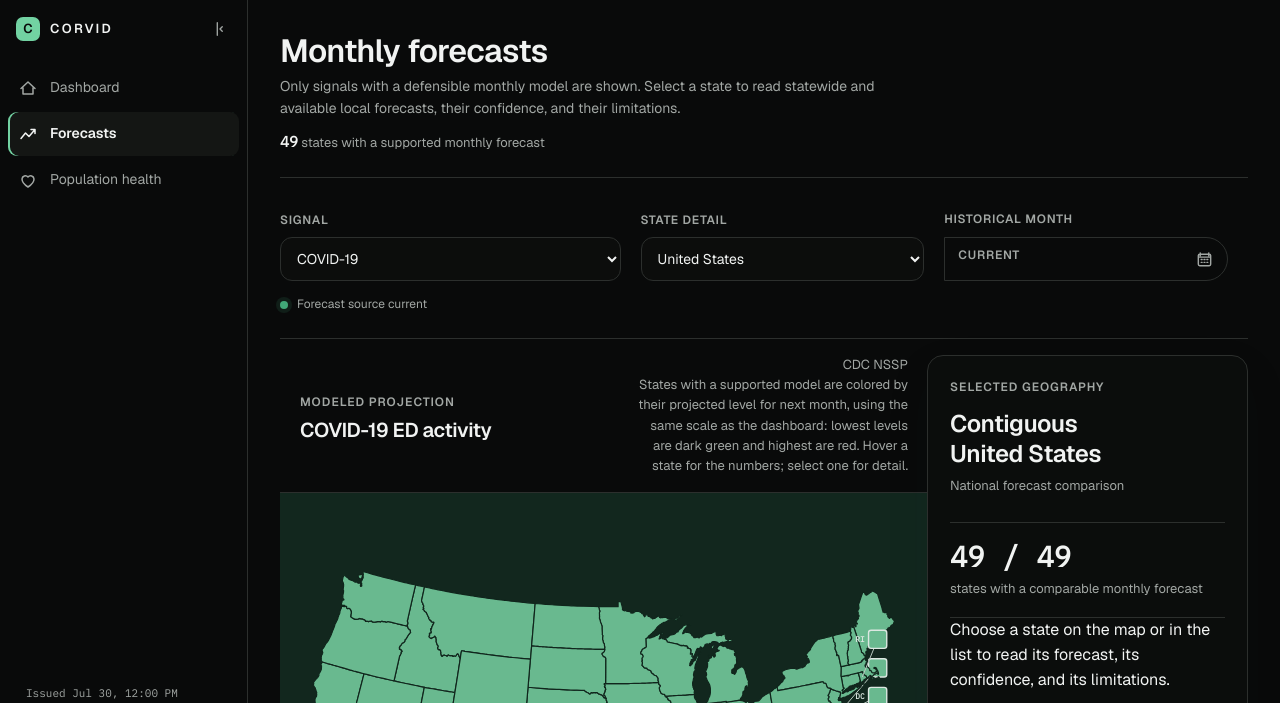
Test case: ForecastsPage (monthly state-level, supported only) › loads state forecast detail and keeps the selection in the URL
Select "Massachusetts" in the dropdown named "Forecast state" at (782, 259), box [640,237,924,281]
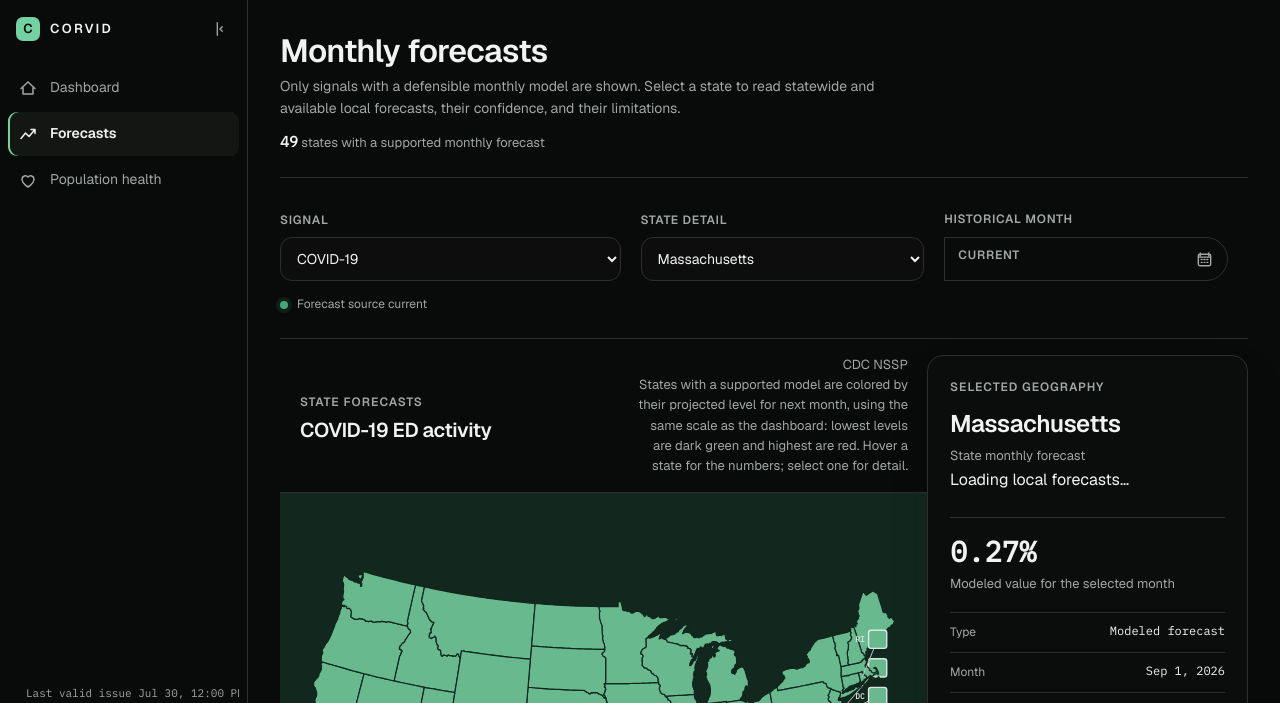
Result: the heading "Massachusetts" is shown at [950,408,1121,439]
Select "California" in the dropdown named "Forecast state" at (782, 259), box [640,237,924,281]
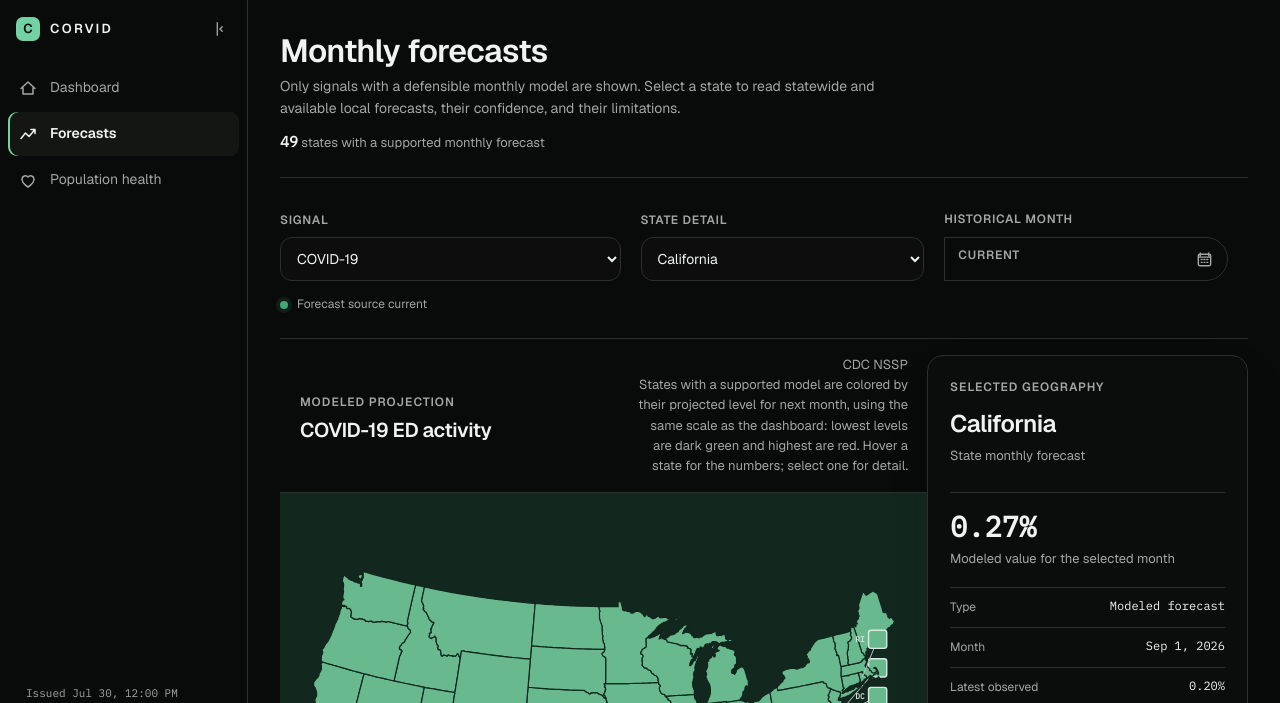
Result: the heading "California" is shown at [950,408,1056,439]
